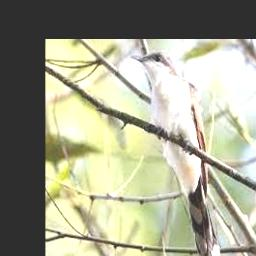Cuckoo: (130, 52, 221, 256)
